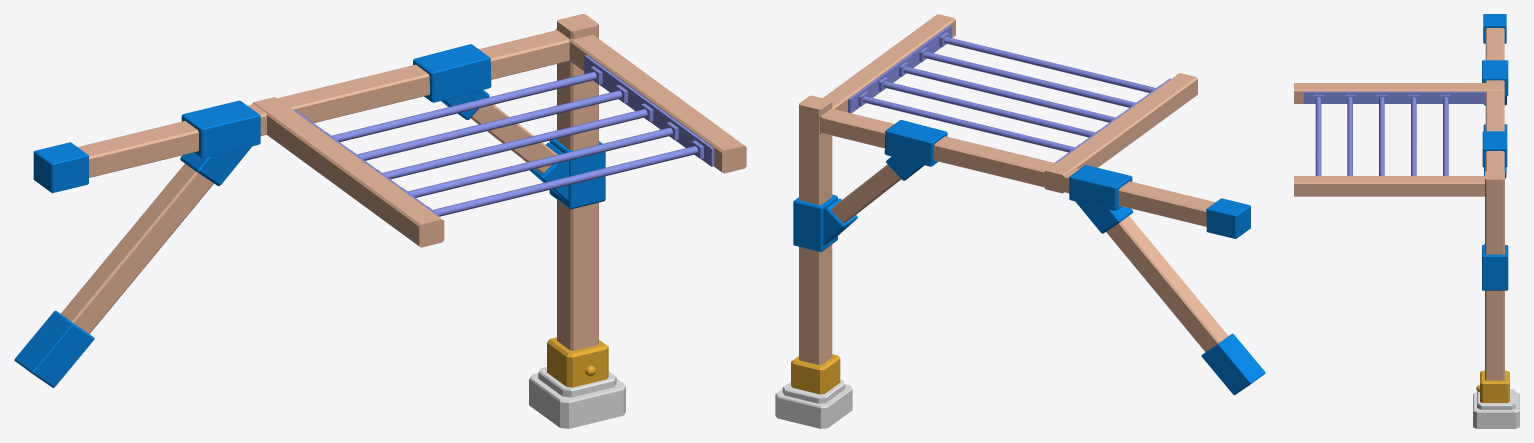
File: Re_Boss2_Platform_Left.fbx
3 renders of one model, left to right at view 1: azimuth 30°, elevation 25°; view 2: azimuth 150°, elevation 25°; view 3: azimuth 270°, elevation 25°, orthographic. The views are drawn at different scales.
Visible parts, largest first — view 1: ReRope.004; view 2: ReRope.004; view 3: ReRope.004.
Boxes of the visible parts, box(x1,y1,x2,y2) form: ReRope.004: box(14, 14, 746, 428); ReRope.004: box(775, 14, 1265, 428); ReRope.004: box(1294, 14, 1519, 428).
Size of the model in its own units: 902 by 567 by 477.
